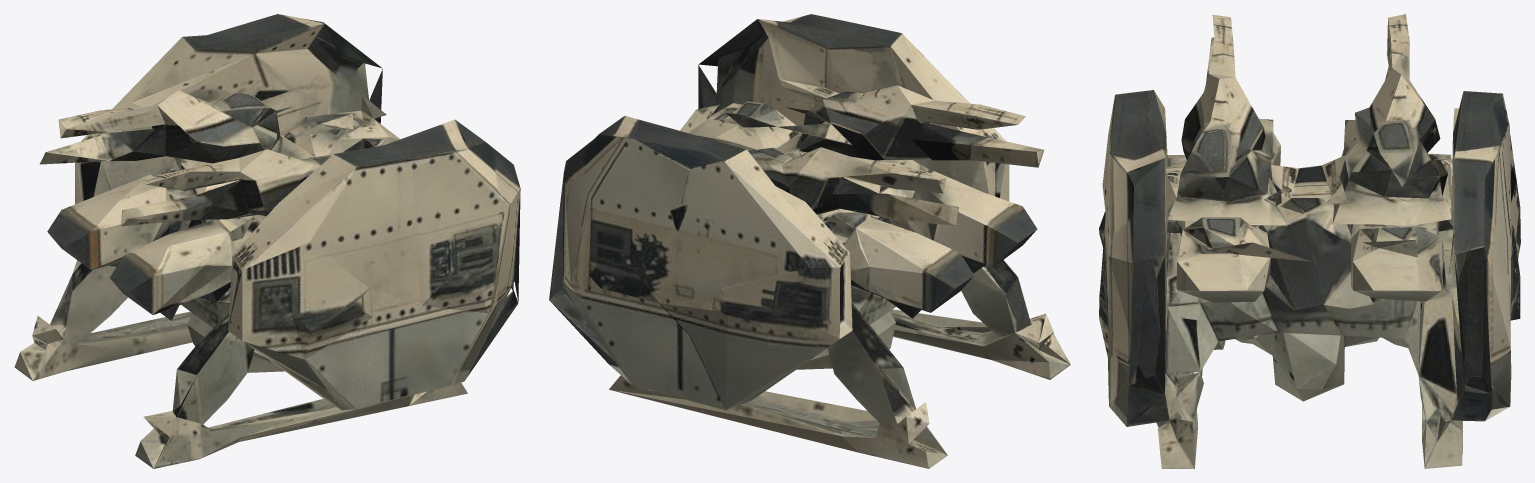
The model's file is module-cannon.glb.
3 renders of one model, left to right at view 1: azimuth 30°, elevation 25°; view 2: azimuth 150°, elevation 25°; view 3: azimuth 270°, elevation 25°, orthographic. The views are drawn at different scales.
Size of the model in its own units: 1.89 by 1.37 by 1.72.
1 material, 1 textured.
